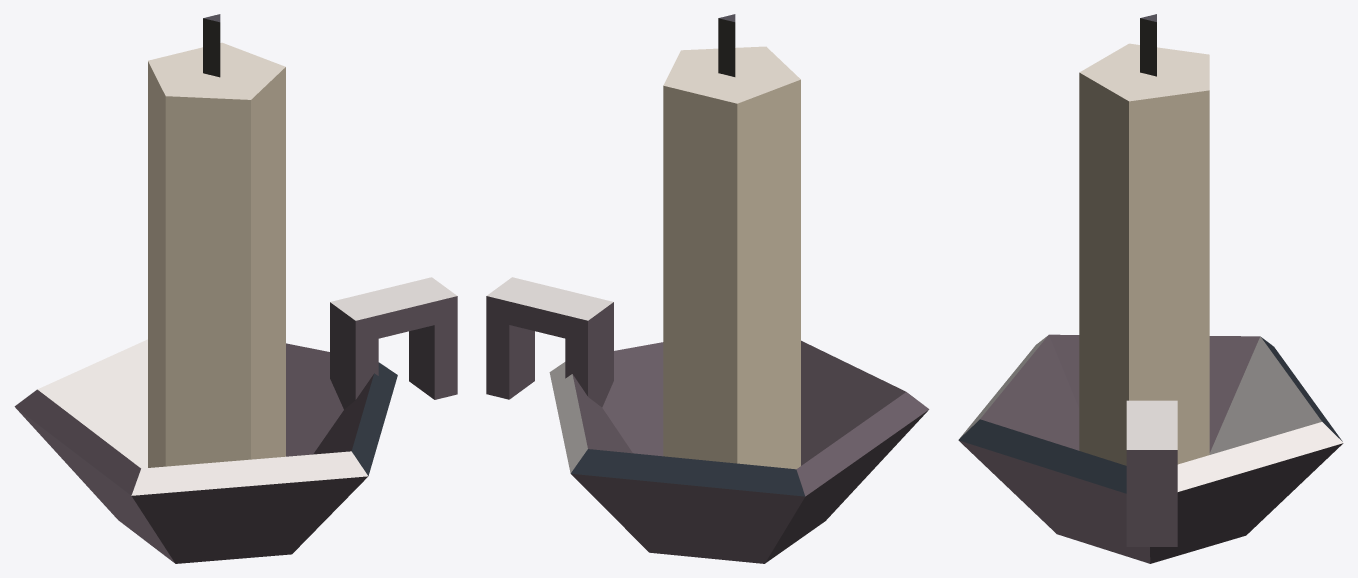
Rendered from TB_D_Prop_Candle_C.FBX.
3 views of the same model, side by side, from view 1: azimuth 30°, elevation 25°; view 2: azimuth 150°, elevation 25°; view 3: azimuth 270°, elevation 25° (orthographic).
Visible parts, largest first — view 1: TB_D_Prop_Candle_C; view 2: TB_D_Prop_Candle_C; view 3: TB_D_Prop_Candle_C.
Part boxes in pixels (x1,y1,x2,y2): TB_D_Prop_Candle_C: (14,14,457,563); TB_D_Prop_Candle_C: (486,14,929,563); TB_D_Prop_Candle_C: (958,14,1343,563).
Bounding box in the file's own units: 0.5589 × 0.7296 × 0.5081.
